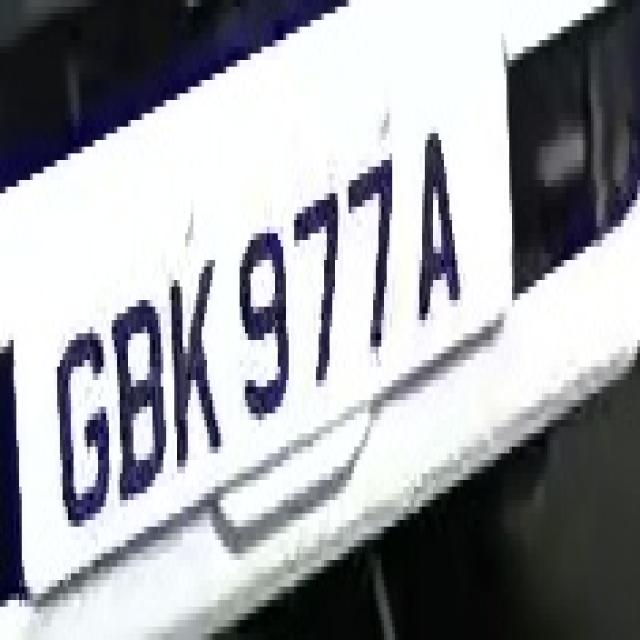7: (281, 186, 343, 406), (343, 140, 398, 373)
9: (232, 206, 294, 426)
A: (406, 107, 463, 340)
B: (103, 280, 169, 527)
G: (54, 314, 109, 534)
K: (161, 247, 223, 493)
